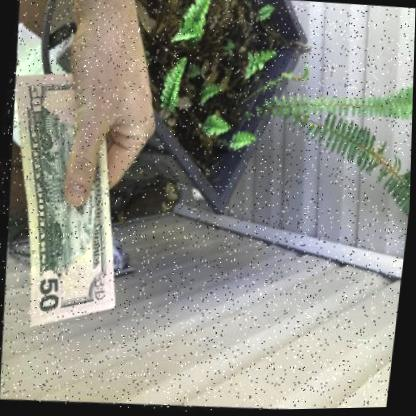fifty-back: (14, 73, 112, 329)
